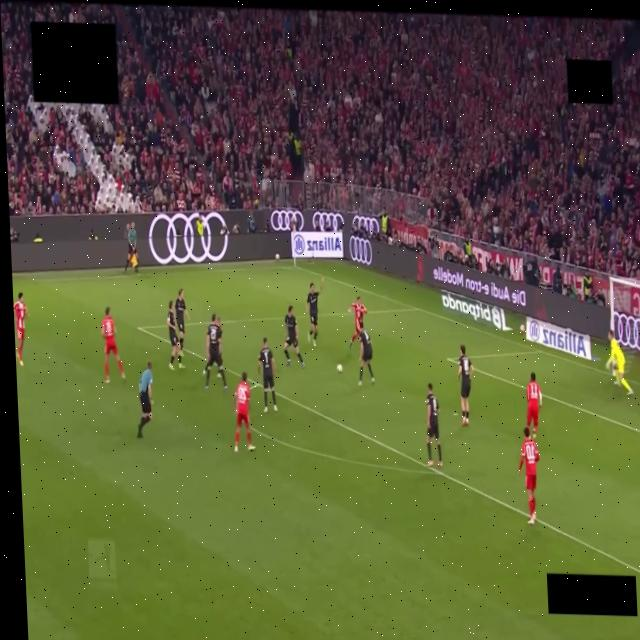ball: (338, 364, 343, 371)
player: (517, 427, 539, 525), (201, 313, 228, 391), (100, 307, 124, 383), (605, 330, 633, 395), (233, 372, 254, 452), (282, 305, 304, 368), (258, 337, 276, 412), (426, 383, 441, 466), (457, 344, 472, 426), (166, 301, 183, 371), (306, 278, 322, 346), (13, 292, 27, 366), (358, 322, 374, 385), (526, 373, 541, 438), (174, 289, 188, 355), (349, 297, 366, 347)
referee: (137, 363, 152, 438)
